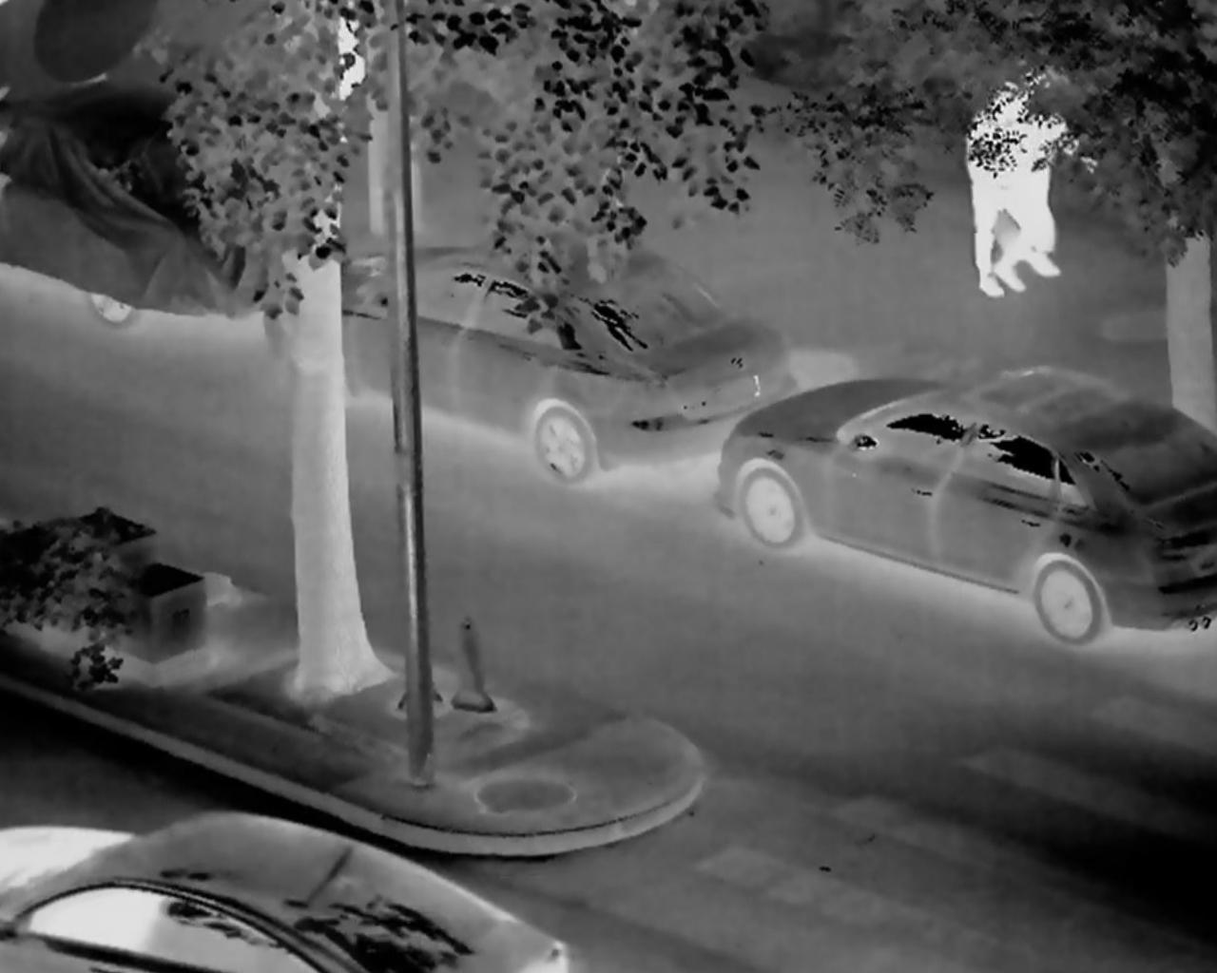person: (954, 83, 1023, 293), (1011, 105, 1072, 284)
